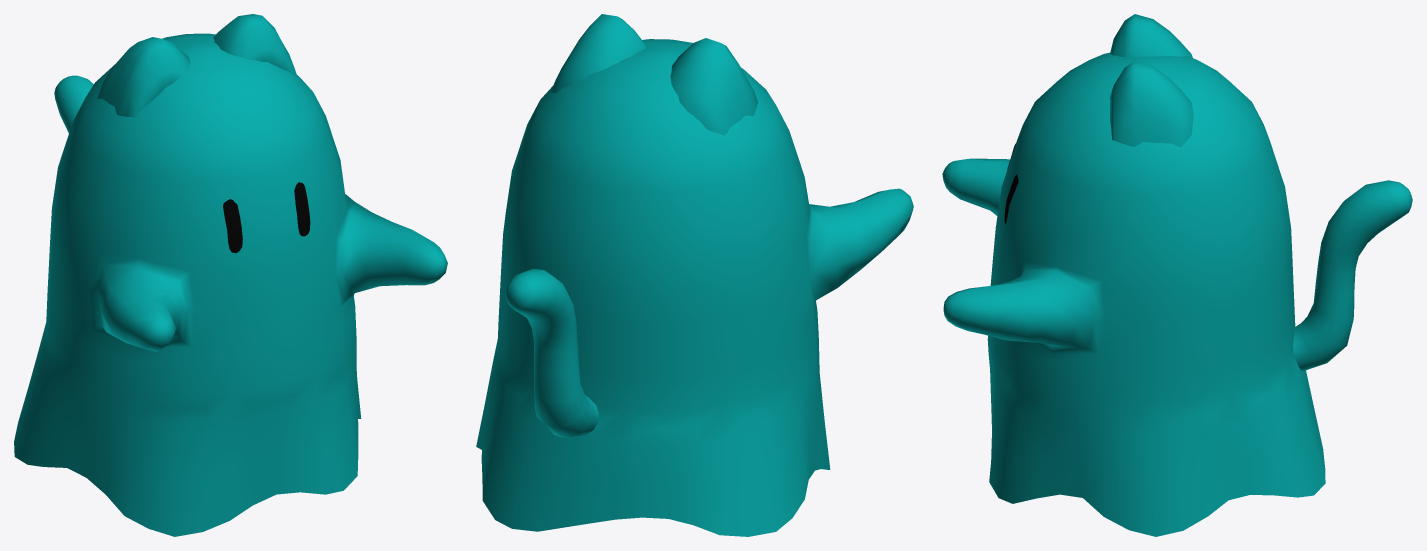
Rendered from MDL_Cat.fbx.
3 renders of one model, left to right at view 1: azimuth 30°, elevation 25°; view 2: azimuth 150°, elevation 25°; view 3: azimuth 270°, elevation 25°, orthographic. The views are drawn at different scales.
Parts seen in each view (by area): view 1: MDL_CAT_geo; view 2: MDL_CAT_geo; view 3: MDL_CAT_geo.
Part boxes in pixels (bbox=[...]): MDL_CAT_geo: bbox=[14, 14, 447, 536]; MDL_CAT_geo: bbox=[476, 14, 913, 536]; MDL_CAT_geo: bbox=[942, 14, 1412, 536].
Bounding box in the file's own units: 50.88 × 68.48 × 67.16.
